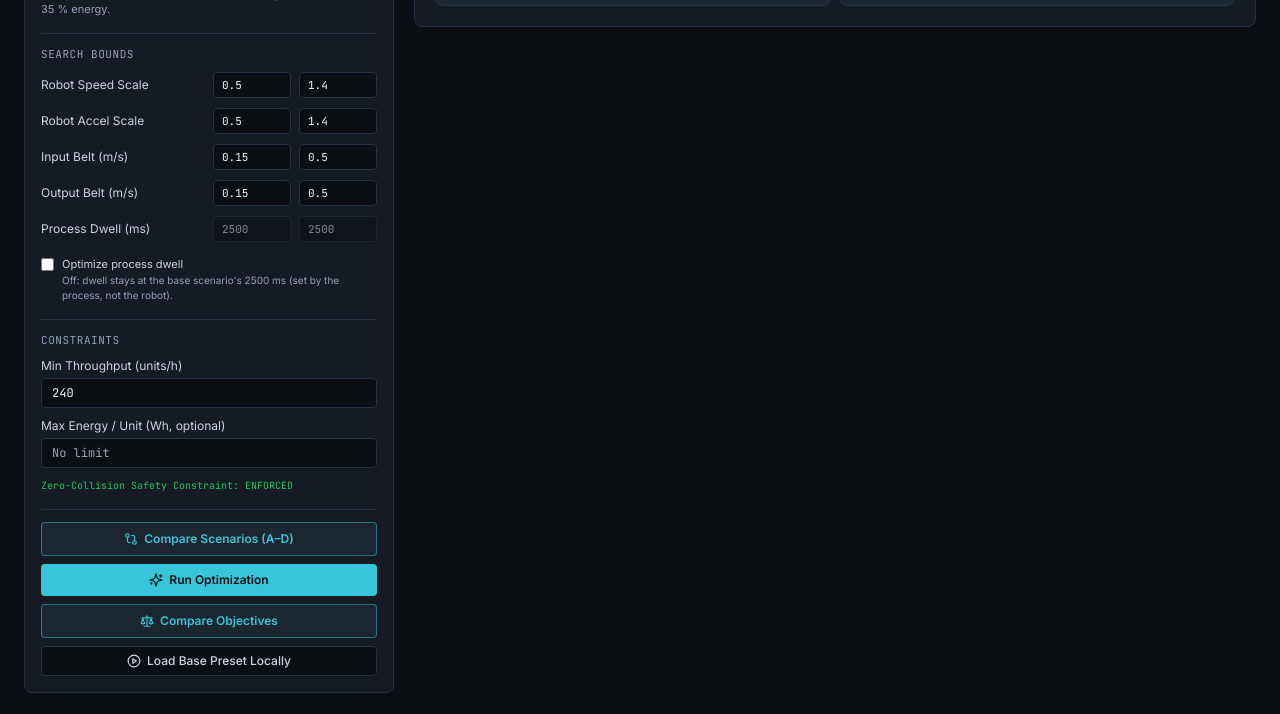
Scenario: OptimizationPage › displays structured error diagnostic banner when optimizer returns INFEASIBLE_OPTIMIZATION
The image size is (1280, 714).
(page scrolled)
Click the button "Run Optimization" at (209, 580), box [41, 564, 377, 596]
(page scrolled)
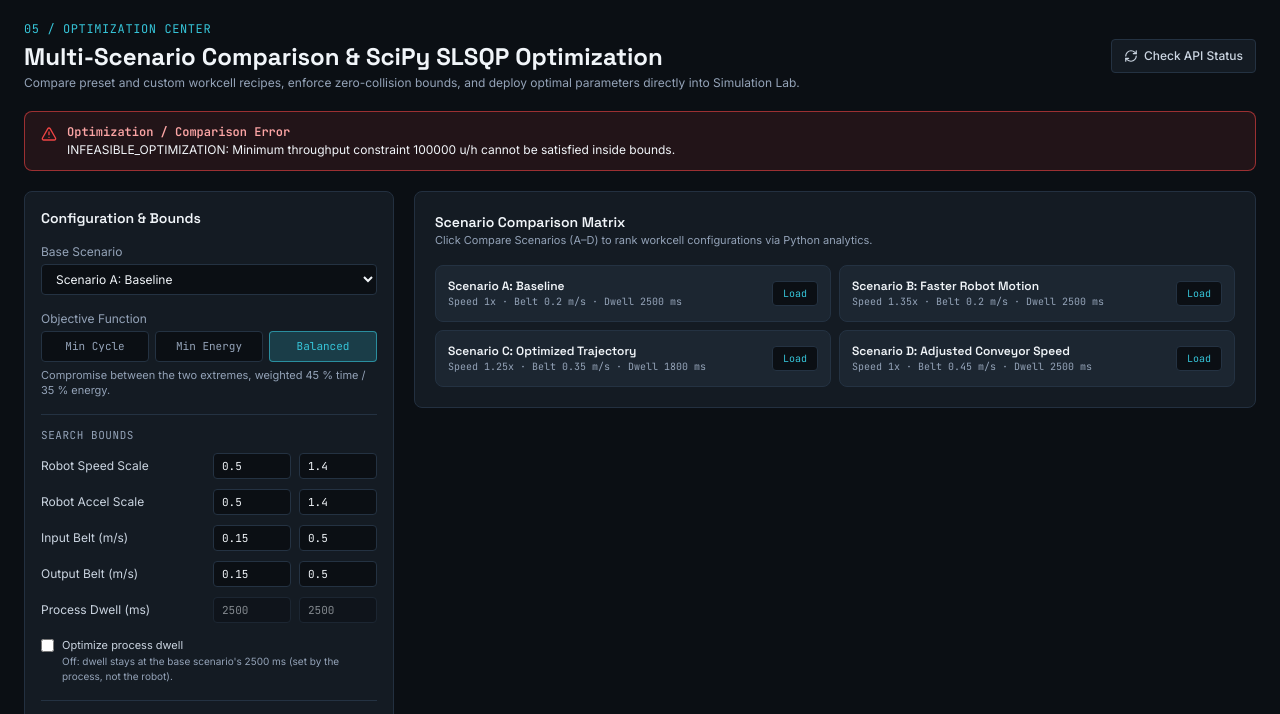
Now the message with test id "optimization-error-banner" is shown, box [24, 111, 1256, 171]
Now the message with test id "optimization-error-banner" shows "INFEASIBLE_OPTIMIZATION", box [67, 142, 675, 157]
